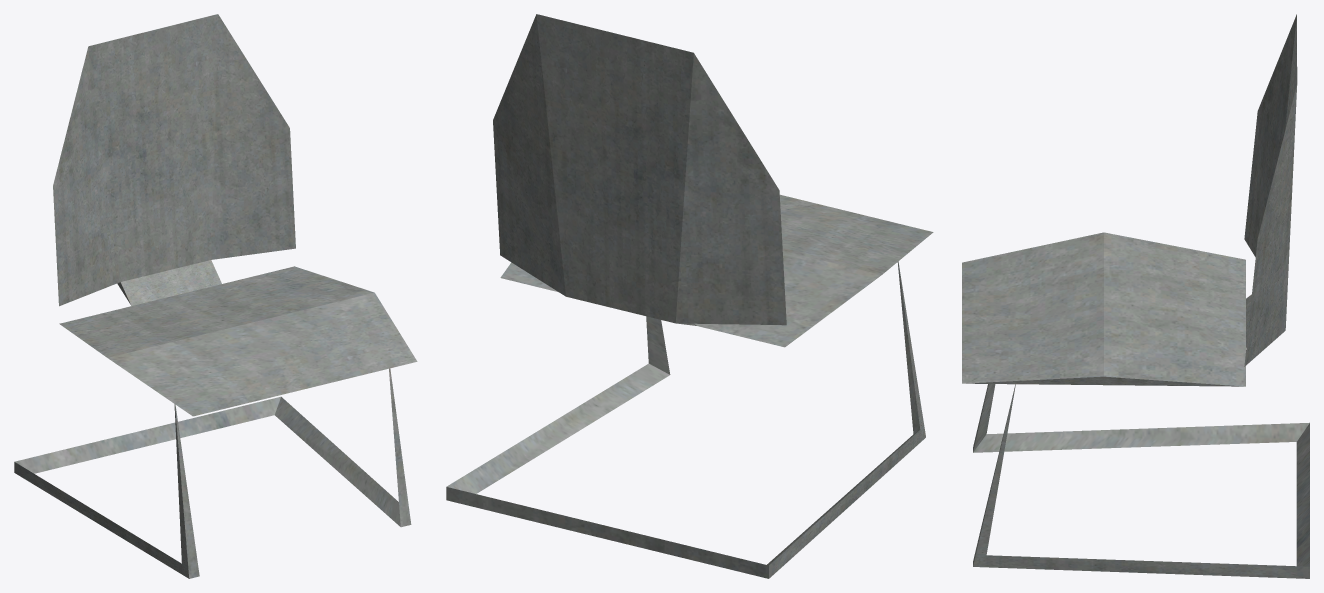
The model's file is frn_all_chair_cafe_s02_l2.fbx.
3 renders of one model, left to right at view 1: azimuth 30°, elevation 25°; view 2: azimuth 150°, elevation 25°; view 3: azimuth 270°, elevation 25°, orthographic. The views are drawn at different scales.
Visible parts, largest first — view 1: mesh_node; view 2: mesh_node; view 3: mesh_node.
Boxes of the visible parts, left/top/right/bottom form: mesh_node: left=14, top=14, right=417, bottom=578; mesh_node: left=446, top=14, right=933, bottom=578; mesh_node: left=962, top=14, right=1309, bottom=578.
Bounding box in the file's own units: 0.6035 × 0.8941 × 0.6152.
